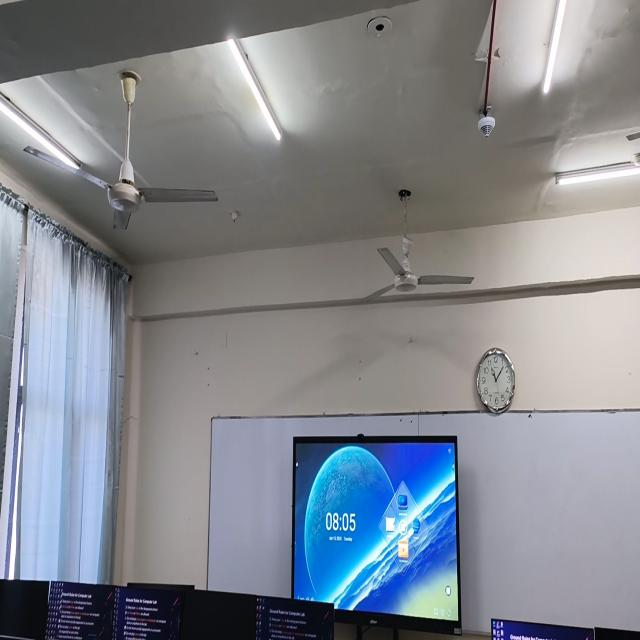Digital board: (292, 435, 461, 633)
Light: (0, 92, 81, 168), (227, 39, 282, 140), (555, 153, 640, 185), (542, 0, 566, 94)
Monitor: (45, 581, 116, 639), (180, 590, 257, 639), (113, 588, 183, 639), (255, 597, 334, 639), (0, 580, 49, 639), (491, 619, 594, 639), (595, 628, 640, 639)
